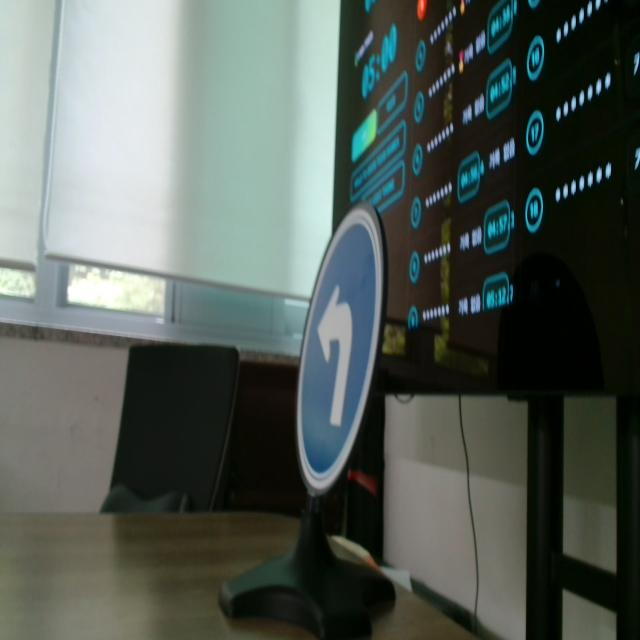left_direction: (290, 203, 386, 494)
